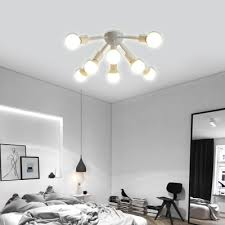bulb: (144, 28, 167, 52), (63, 28, 84, 53), (126, 56, 148, 79), (103, 69, 126, 89), (68, 66, 88, 88), (103, 44, 121, 65), (141, 66, 159, 86), (83, 60, 100, 80)
